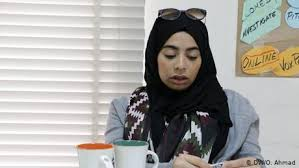middle_eastern_Female: (158, 21, 209, 85)
